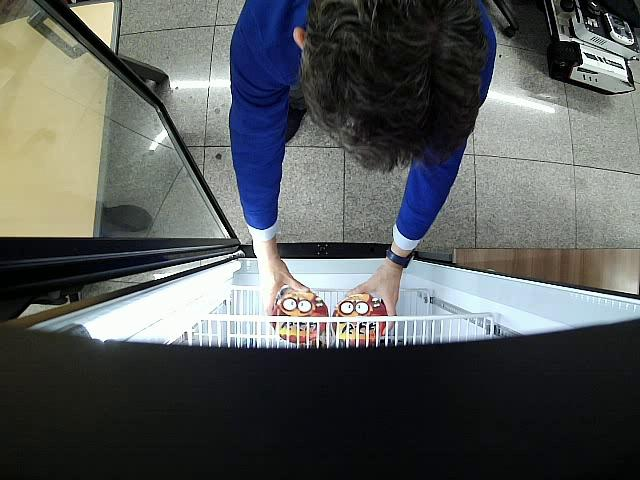00_hand: (345, 270, 399, 334), (259, 261, 310, 324)
05_nuguri_L: (272, 287, 329, 344), (331, 293, 388, 346)
